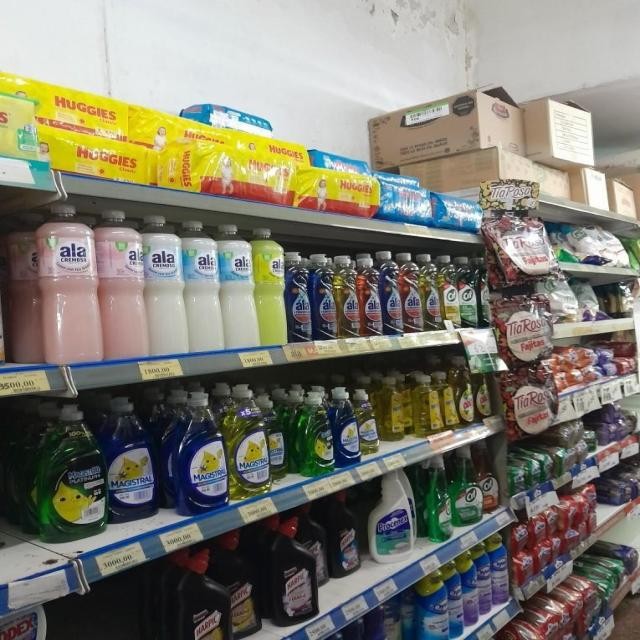ala_conc_amarillo: (336, 254, 358, 338), (422, 253, 441, 332)
ala_conc_azul: (286, 252, 310, 344), (311, 252, 336, 340), (380, 251, 400, 335)
ala_conc_rojo: (359, 253, 381, 337), (402, 252, 422, 333)
ala_crem_blanco: (145, 214, 185, 356), (186, 218, 221, 353), (222, 223, 255, 349)
ala_crem_rosado: (32, 202, 100, 365), (100, 208, 146, 360)
cif_conc_bot_amarilla: (441, 254, 458, 330)
cif_conc_botella_verde: (424, 454, 451, 543), (452, 449, 482, 527), (459, 255, 477, 329), (478, 255, 491, 328)
magistral_con_amarillo: (228, 384, 268, 498), (268, 391, 288, 482), (358, 387, 378, 458)
magistral_con_azul: (173, 388, 228, 514), (106, 395, 157, 523), (334, 387, 359, 468)
